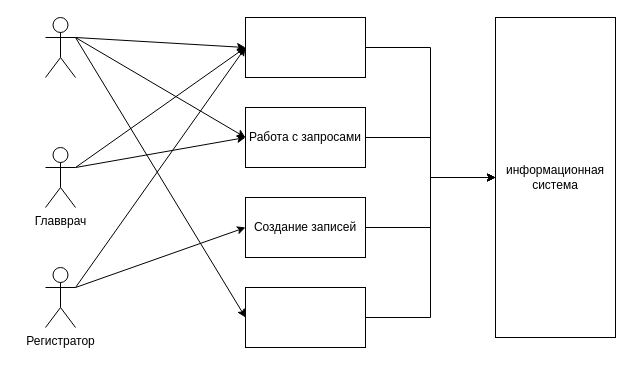
Some shapes in this 633 by 366 pixel diagram are drawn without their labels. The centre of each missing label's shape, as x and y in pixels:
Администратор: the point at 60,47
Аутентификация и авторизация: the point at 305,47
Работа с отчетами: the point at 305,317
